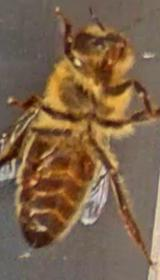varroa_mite: (10, 152, 50, 204)
